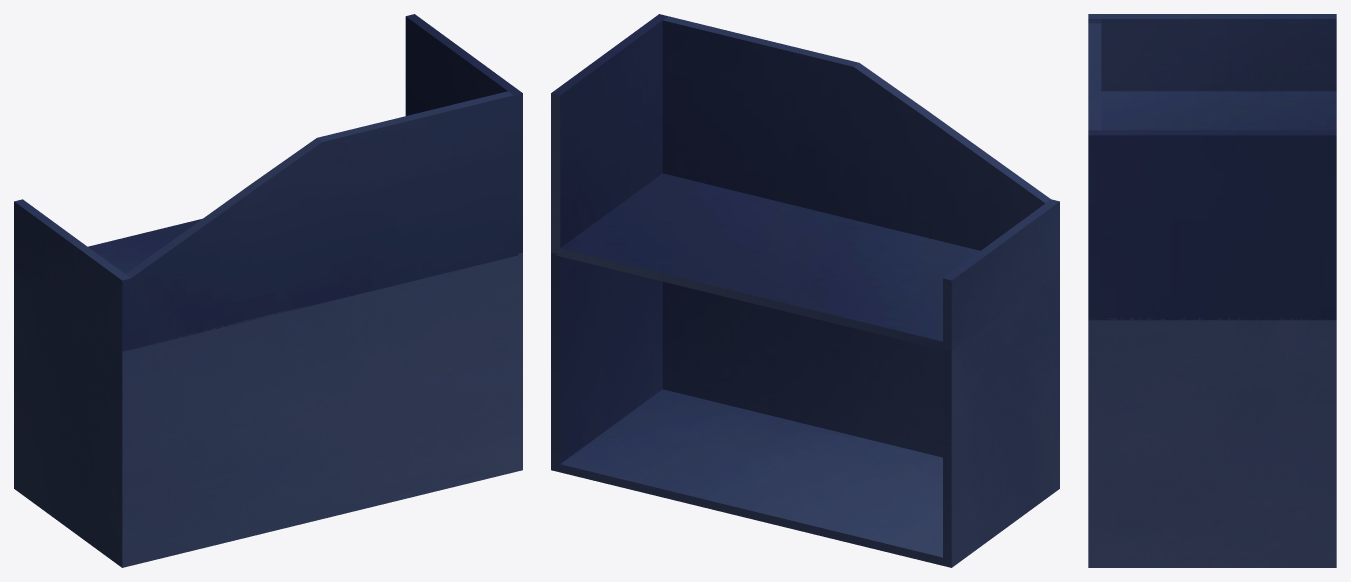
The model's file is Bookcloset.fbx.
3 renders of one model, left to right at view 1: azimuth 30°, elevation 25°; view 2: azimuth 150°, elevation 25°; view 3: azimuth 270°, elevation 25°, orthographic. The views are drawn at different scales.
Parts seen in each view (by area): view 1: polySurface1084; view 2: polySurface1084; view 3: polySurface1084.
Part boxes in pixels (bbox=[...]): polySurface1084: bbox=[14, 14, 522, 567]; polySurface1084: bbox=[551, 14, 1059, 567]; polySurface1084: bbox=[1088, 14, 1336, 567].
Size of the model in its own units: 0.3161 by 0.2844 by 0.1478.
1 material, 1 textured.
